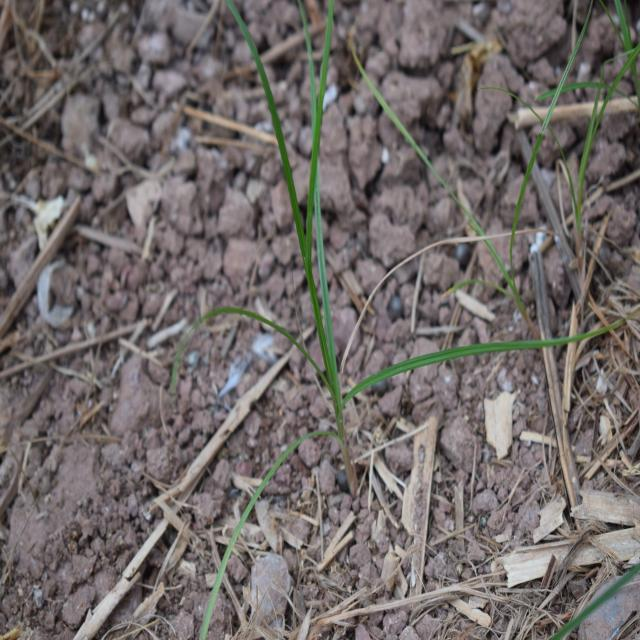sedge: (138, 0, 550, 416)
